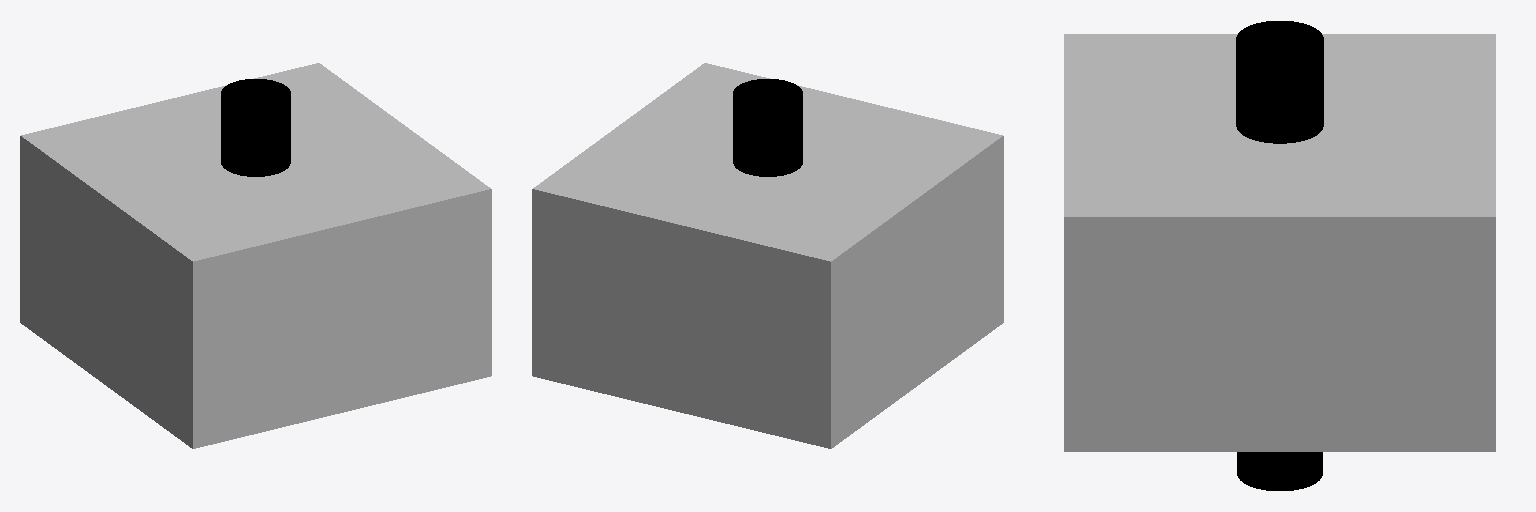
The robot description file, URDF, robot "ground_robot":
<?xml version="1.0" ?>
<!-- =================================================================================== -->
<!-- |    This document was autogenerated by xacro from src/ground_robots_models/models/robot_model.urdf | -->
<!-- |    EDITING THIS FILE BY HAND IS NOT RECOMMENDED                                 | -->
<!-- =================================================================================== -->
<robot name="ground_robot">
  <!-- ********************** ROBOT BASE *********************************  -->
  <link name="base_link">
    <visual>
      <origin rpy="1.5707963267949 0 3.141592654" xyz="0 0 0.25"/>
      <geometry>
        <box size="0.5 0.3 0.5"/>
      </geometry>
      <material name="Gray">
        <color rgba="0.7843137254901961 0.7843137254901961 0.7843137254901961 1.0"/>
      </material>
    </visual>
    <collision>
      <geometry>
        <mesh filename="model://ground_robot.model/meshes/base.stl"/>
      </geometry>
    </collision>
    <inertial>
      <origin rpy="1.5707963267948966 0 1.5707963267948966" xyz="0 0 0"/>
      <mass value="10.0"/>
      <inertia ixx="0.2833333333333333" ixy="0.0" ixz="0.0" iyy="0.4166666666666667" iyz="0.0" izz="0.2833333333333333"/>
    </inertial>
  </link>
  <gazebo reference="base_link">
    <material>Gazebo/Grey</material>
  </gazebo>
  <!-- *********************** DRIVE WHEELS ******************************  -->
  <!-- <xacro:macro name="wheel" params="prefix x_reflect y_reflect">
    <link name="${prefix}_link">
      <visual>
        <origin xyz="0 0 0" rpy="1.5707963267949 0 0"/>
        <geometry>
            <cylinder radius="${wheel_radius}" length="${wheel_width}"/>
        </geometry>
        <material name="White">
          <color rgba="${0/255} ${0/255} ${0/255} 1.0"/>
        </material>
      </visual>
      
      <collision>
        <origin xyz="0 0 0" rpy="${pi/2} 0 0"/>
        <geometry>
          <cylinder radius="${wheel_radius}" length="${wheel_width}"/>
        </geometry>
      </collision>
      
      <xacro:cylinder_inertia m="2.0" r="${wheel_radius}" h="${wheel_width}"/>
      
    </link>

    <joint name="${prefix}_joint" type="revolute">
      <parent link="base_link"/>
      <child link="${prefix}_link"/>
      <origin xyz="${x_reflect*wheel_xoff} ${y_reflect*(wheel_ygap)} ${-wheel_zoff}" rpy="0 0 0"/>
      <limit upper="3.1415" lower="-3.1415" effort="30" velocity="5.0"/>
      <axis xyz="0 1 0"/>
    </joint>
  </xacro:macro>

  <xacro:wheel prefix="drivewhl_l" x_reflect="-1" y_reflect="1" />
  <xacro:wheel prefix="drivewhl_r" x_reflect="-1" y_reflect="-1" /> -->
  <!-- *********************** CASTER WHEEL ******************************  -->
  <!-- We add a caster wheel. It will be modeled as sphere.
       We define the wheel’s geometry, material and the joint to connect it to 
       base_link at the appropriate location. -->
  <link name="front_caster">
    <visual>
      <geometry>
        <cylinder length="0.025" radius="0.05"/>
      </geometry>
      <material name="White">
        <color rgba="0.0 0.0 0.0 1.0"/>
      </material>
    </visual>
    <collision>
      <origin rpy="0 0 0" xyz="0 0 0"/>
      <geometry>
        <cylinder length="0.025" radius="0.05"/>
      </geometry>
    </collision>
    <inertial>
      <origin rpy="1.5707963267948966 0 0" xyz="0 0 0"/>
      <mass value="0.5"/>
      <inertia ixx="0.00033854166666666673" ixy="0" ixz="0" iyy="0.00033854166666666673" iyz="0" izz="0.0006250000000000001"/>
    </inertial>
  </link>
  <gazebo reference="front_caster">
    <mu1>0.01</mu1>
    <mu2>0.01</mu2>
    <material>Gazebo/Black</material>
  </gazebo>
  <joint name="caster_joint" type="fixed">
    <parent link="base_link"/>
    <child link="front_caster"/>
    <origin rpy="0 0 0" xyz="0.175 0.0 0.05"/>
  </joint>
  <!-- *********************** LIDAR SETUP **********************************  -->
  <joint name="lidar_joint" type="fixed">
    <parent link="base_link"/>
    <child link="base_laser"/>
    <origin rpy="0 0 0" xyz="0 0 0.42"/>
  </joint>
  <link name="base_laser">
    <collision>
      <origin rpy="0 0 0" xyz="0 0 0"/>
      <geometry>
        <cylinder length="0.18" radius="0.0508"/>
      </geometry>
    </collision>
    <visual>
      <origin rpy="0 0 0" xyz="0 0 0"/>
      <geometry>
        <cylinder length="0.18" radius="0.0508"/>
      </geometry>
      <material name="Black">
        <color rgba="0.0 0.0 0.0 1.0"/>
      </material>
    </visual>
    <inertial>
      <mass value="0.190"/>
      <origin rpy="0 0 0" xyz="0 0 0"/>
      <inertia ixx="0.001" ixy="0" ixz="0" iyy="0.001" iyz="0" izz="0.001"/>
    </inertial>
  </link>
</robot>

--- What the picture shows (computed from the rendered views, not written in the file) ---
The picture shows the robot from 3 angles, left to right: view 1: azimuth 30°, elevation 25°; view 2: azimuth 150°, elevation 25°; view 3: azimuth 270°, elevation 25°; orthographic projection.
Model ground_robot with 3 links and 2 joints (2 fixed), rooted at base_link, posed all joints at 0.
Visible links, largest first — view 1: base_link, base_laser; view 2: base_link, base_laser; view 3: base_link, base_laser, front_caster.
Link boxes in pixels (x1,y1,x2,y2): base_link: (20,63,491,448); base_laser: (221,79,290,176); base_link: (532,63,1003,448); base_laser: (733,79,802,176); base_link: (1064,34,1495,451); base_laser: (1236,21,1323,143); front_caster: (1237,452,1322,490).
Bounding box of the posed robot: 0.5 × 0.5 × 0.4725 m (x, y, z).
Geometry: primitives only (box / cylinder / sphere), no mesh files.
